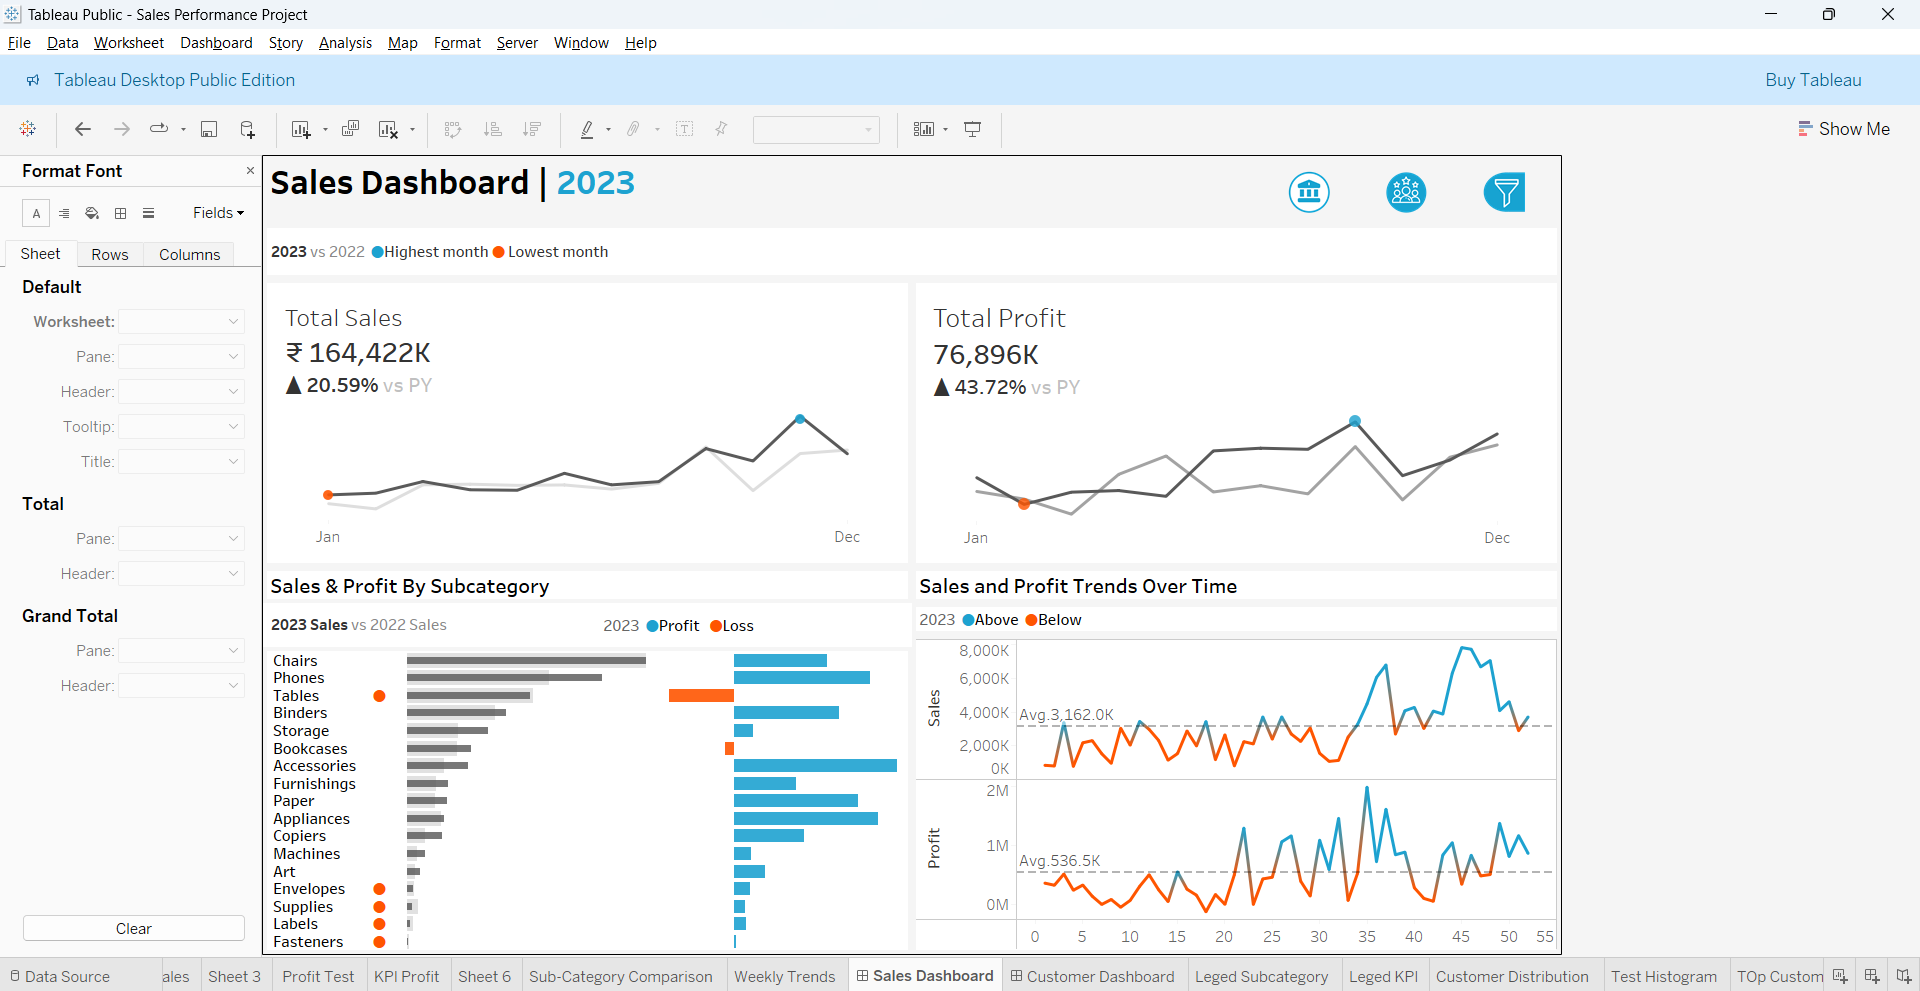

This screenshot's page, from the dashboard's own definition file:
{"tool":"tableau","page":{"name":"Sales Dashboard","canvas":[1300,800],"ordinal":1},"visuals":[{"type":"text","box":[1,1,1298,53]},{"type":"blank","box":[1014,10,275,75]},{"type":"dashboard-object","box":[998,12,98,50]},{"type":"dashboard-object","box":[1096,12,97,50]},{"type":"dashboard-object","box":[1193,12,97,50]},{"type":"worksheet","title":"Leged KPI","mark":"Automatic","box":[1,69,1298,55]},{"type":"parameter","param":"[Parameters].[Parameter 1]","box":[1014,85,275,56]},{"type":"worksheet","title":"KPI Sales","mark":"Automatic","rows":["Calculation_849491506752069635","Calculation_538180182264455172"],"cols":["Order Date"],"box":[1,124,649,288]},{"type":"worksheet","title":"KPI Profit","mark":"Automatic","rows":["Calculation_849491506776858635"],"cols":["Order Date"],"box":[650,124,649,288]},{"type":"text","box":[1014,141,275,33]},{"type":"filter","title":"KPI Sales","param":"[federated.0sznyoi03j0m731ddva8e092tgos].[none:Category:nk]","box":[1014,174,275,61]},{"type":"filter","title":"KPI Sales","param":"[federated.0sznyoi03j0m731ddva8e092tgos].[none:Sub-Category:nk]","box":[1014,235,275,61]},{"type":"blank","box":[1014,296,275,53]},{"type":"text","box":[1014,349,275,33]},{"type":"filter","title":"KPI Sales","param":"[federated.0sznyoi03j0m731ddva8e092tgos].[none:Region:nk]","box":[1014,382,275,61]},{"type":"text","box":[1,412,649,36]},{"type":"text","box":[650,412,649,36]},{"type":"filter","title":"KPI Sales","param":"[federated.0sznyoi03j0m731ddva8e092tgos].[none:State:nk]","box":[1014,443,275,61]},{"type":"worksheet","title":"Leged Subcategory","mark":"Automatic","box":[1,448,333,44]},{"type":"text","box":[334,448,316,44]},{"type":"text","box":[650,448,649,32]},{"type":"worksheet","title":"Weekly Trends","mark":"Automatic","rows":["Calculation_538180182249533440","Calculation_849491506762338309"],"cols":["Order Date"],"box":[650,480,649,319]},{"type":"worksheet","title":"Sub-Category Comparison","mark":"Automatic","rows":["Sub-Category","Calculation_849491506793095182"],"cols":["CY Sales (copy)_538180182250446849","Calculation_538180182249533440","Calculation_849491506762338309"],"box":[1,492,649,307]},{"type":"filter","title":"KPI Sales","param":"[federated.0sznyoi03j0m731ddva8e092tgos].[none:City:nk]","box":[1014,504,275,61]}]}

Visuals, with their boxes on the page's 1300x800 design canvas (x1, y1, x2, y2). These are canvas units, not pixel positions in the 1920x991 screenshot, which may show the page scaled, cropped or inside an application window:
text: bbox=(1, 1, 1299, 54)
blank: bbox=(1014, 10, 1289, 85)
dashboard-object: bbox=(998, 12, 1096, 62)
dashboard-object: bbox=(1096, 12, 1193, 62)
dashboard-object: bbox=(1193, 12, 1290, 62)
"Leged KPI" worksheet: bbox=(1, 69, 1299, 124)
parameter: bbox=(1014, 85, 1289, 141)
"KPI Sales" worksheet: bbox=(1, 124, 650, 412)
"KPI Profit" worksheet: bbox=(650, 124, 1299, 412)
text: bbox=(1014, 141, 1289, 174)
"KPI Sales" filter: bbox=(1014, 174, 1289, 235)
"KPI Sales" filter: bbox=(1014, 235, 1289, 296)
blank: bbox=(1014, 296, 1289, 349)
text: bbox=(1014, 349, 1289, 382)
"KPI Sales" filter: bbox=(1014, 382, 1289, 443)
text: bbox=(1, 412, 650, 448)
text: bbox=(650, 412, 1299, 448)
"KPI Sales" filter: bbox=(1014, 443, 1289, 504)
"Leged Subcategory" worksheet: bbox=(1, 448, 334, 492)
text: bbox=(334, 448, 650, 492)
text: bbox=(650, 448, 1299, 480)
"Weekly Trends" worksheet: bbox=(650, 480, 1299, 799)
"Sub-Category Comparison" worksheet: bbox=(1, 492, 650, 799)
"KPI Sales" filter: bbox=(1014, 504, 1289, 565)
